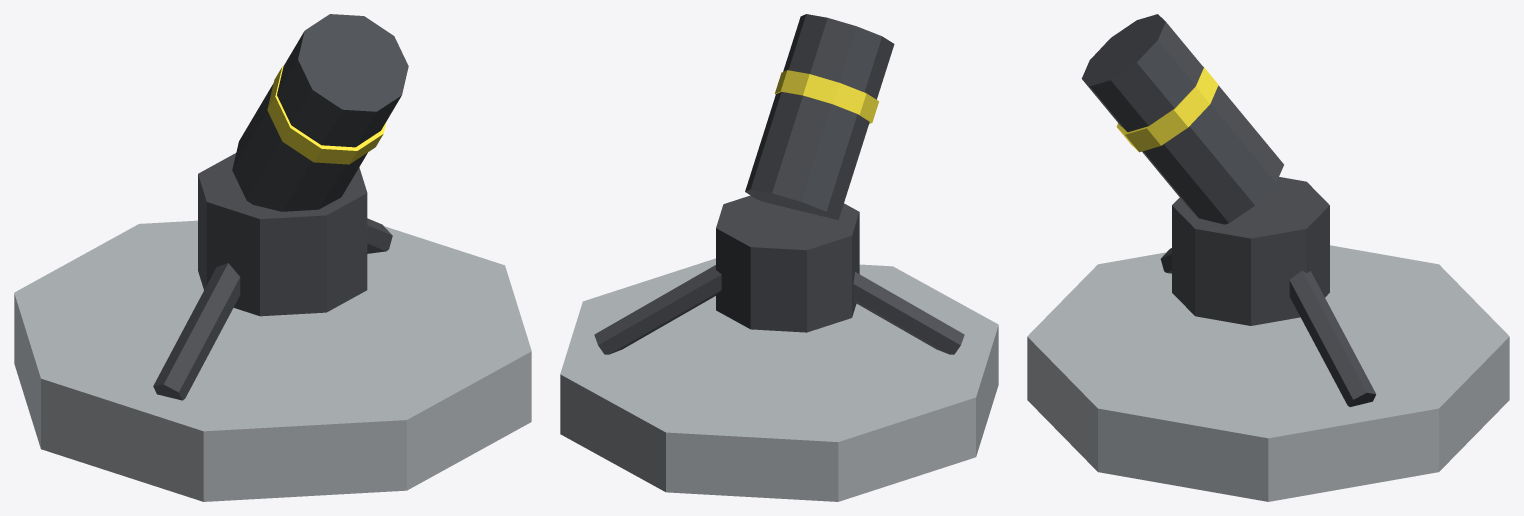
File: TD_MortarTower_T0.fbx
3 renders of one model, left to right at view 1: azimuth 30°, elevation 25°; view 2: azimuth 150°, elevation 25°; view 3: azimuth 270°, elevation 25°, orthographic. The views are drawn at different scales.
Visible parts, largest first — view 1: TD_MortarTower_T0_Base, TD_MortarTower_T0_MortarBarrel, TD_MortarTower_T0_BarrelSupport, TD_MortarTower_T0_Leg_02, TD_MortarTower_T0_WarningStripe, TD_MortarTower_T0_Leg_01; view 2: TD_MortarTower_T0_Base, TD_MortarTower_T0_BarrelSupport, TD_MortarTower_T0_MortarBarrel, TD_MortarTower_T0_Leg_01, TD_MortarTower_T0_Leg_02, TD_MortarTower_T0_WarningStripe; view 3: TD_MortarTower_T0_Base, TD_MortarTower_T0_MortarBarrel, TD_MortarTower_T0_BarrelSupport, TD_MortarTower_T0_Leg_01, TD_MortarTower_T0_WarningStripe.
Boxes of the visible parts, left/top/right/bottom form: TD_MortarTower_T0_Base: left=14, top=220, right=531, bottom=501; TD_MortarTower_T0_MortarBarrel: left=232, top=14, right=408, bottom=211; TD_MortarTower_T0_BarrelSupport: left=198, top=153, right=367, bottom=316; TD_MortarTower_T0_Leg_02: left=153, top=263, right=240, bottom=400; TD_MortarTower_T0_WarningStripe: left=267, top=65, right=386, bottom=164; TD_MortarTower_T0_Leg_01: left=367, top=218, right=392, bottom=253; TD_MortarTower_T0_Base: left=560, top=258, right=998, bottom=501; TD_MortarTower_T0_BarrelSupport: left=716, top=195, right=859, bottom=332; TD_MortarTower_T0_MortarBarrel: left=745, top=14, right=894, bottom=219; TD_MortarTower_T0_Leg_01: left=594, top=265, right=721, bottom=354; TD_MortarTower_T0_Leg_02: left=853, top=272, right=964, bottom=354; TD_MortarTower_T0_WarningStripe: left=775, top=70, right=878, bottom=123; TD_MortarTower_T0_Base: left=1027, top=245, right=1509, bottom=501; TD_MortarTower_T0_MortarBarrel: left=1081, top=14, right=1283, bottom=224; TD_MortarTower_T0_BarrelSupport: left=1172, top=177, right=1329, bottom=325; TD_MortarTower_T0_Leg_01: left=1289, top=271, right=1376, bottom=406; TD_MortarTower_T0_WarningStripe: left=1116, top=66, right=1218, bottom=152.
Size of the model in its own units: 1.1 by 0.952 by 1.1.
